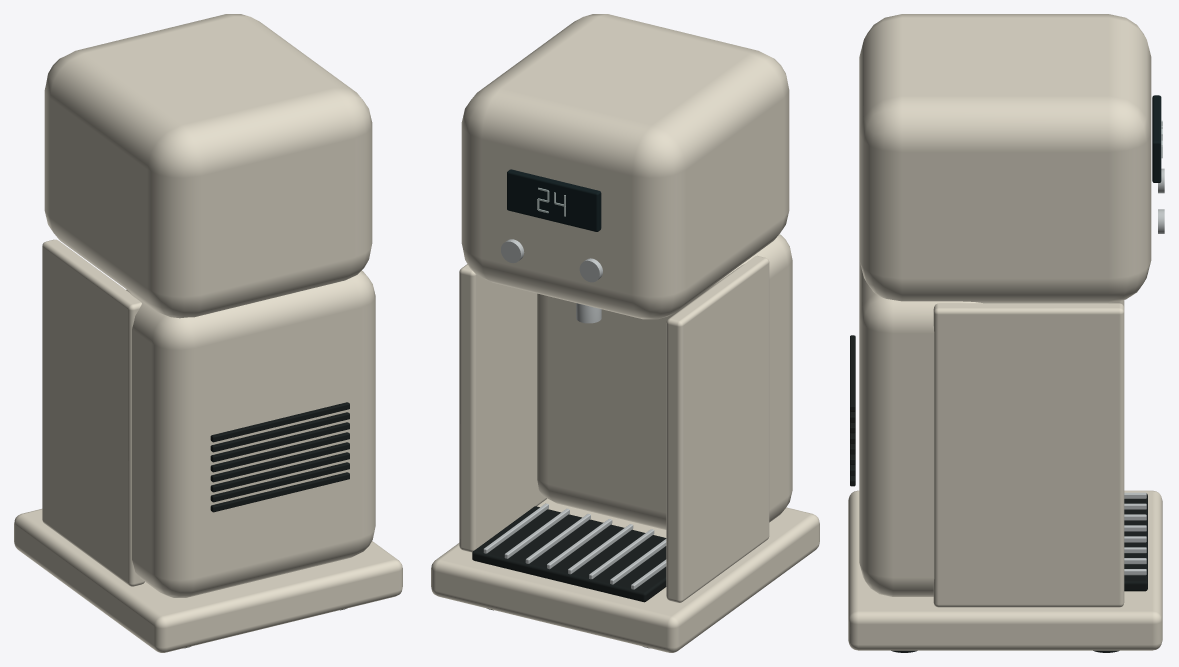
File: kitchen-water-purifier.glb
The picture shows the model from 3 angles, left to right: view 1: azimuth 30°, elevation 25°; view 2: azimuth 150°, elevation 25°; view 3: azimuth 270°, elevation 25°; orthographic projection. The views are drawn at different scales.
Visible parts, largest first — view 1: cream_surfaces, dark_surfaces; view 2: cream_surfaces, dark_surfaces, steel_surfaces, screen_surfaces; view 3: cream_surfaces, dark_surfaces, steel_surfaces, screen_surfaces.
Boxes of the visible parts, x1,y1,x2,y2 form: cream_surfaces: (14, 14, 402, 652); dark_surfaces: (184, 402, 349, 648); cream_surfaces: (431, 14, 819, 652); dark_surfaces: (472, 506, 666, 648); steel_surfaces: (483, 239, 666, 589); screen_surfaces: (507, 169, 601, 231); cream_surfaces: (848, 14, 1162, 650); dark_surfaces: (850, 335, 1147, 652); steel_surfaces: (1124, 168, 1164, 575); screen_surfaces: (1152, 95, 1161, 182).
Size of the model in its own units: 0.27 by 0.538 by 0.282.
